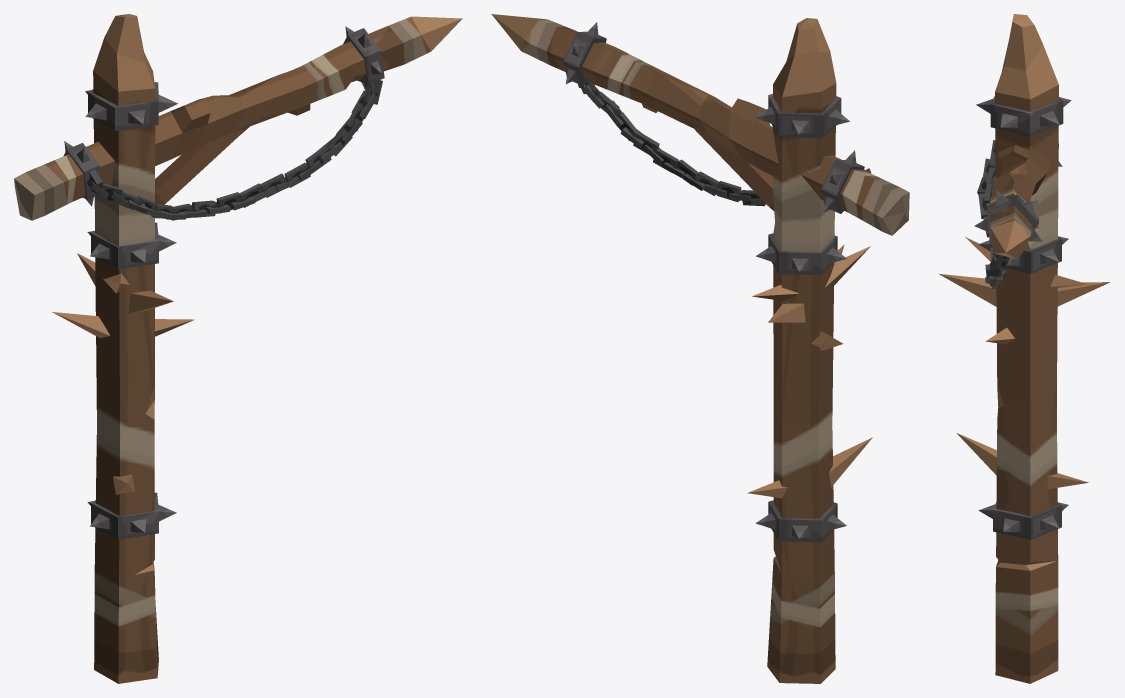
File: bog_gibbet.gltf
3 views of the same model, side by side, from view 1: azimuth 30°, elevation 25°; view 2: azimuth 150°, elevation 25°; view 3: azimuth 270°, elevation 25° (orthographic).
Visible parts, largest first — view 1: bog_gibbet; view 2: bog_gibbet; view 3: bog_gibbet.
Boxes of the visible parts, bbox=[...] form: bog_gibbet: bbox=[14, 14, 462, 683]; bog_gibbet: bbox=[491, 14, 909, 683]; bog_gibbet: bbox=[938, 14, 1110, 683].
Size of the model in its own units: 4.19 by 6.17 by 1.47.
1 material, 1 textured.
